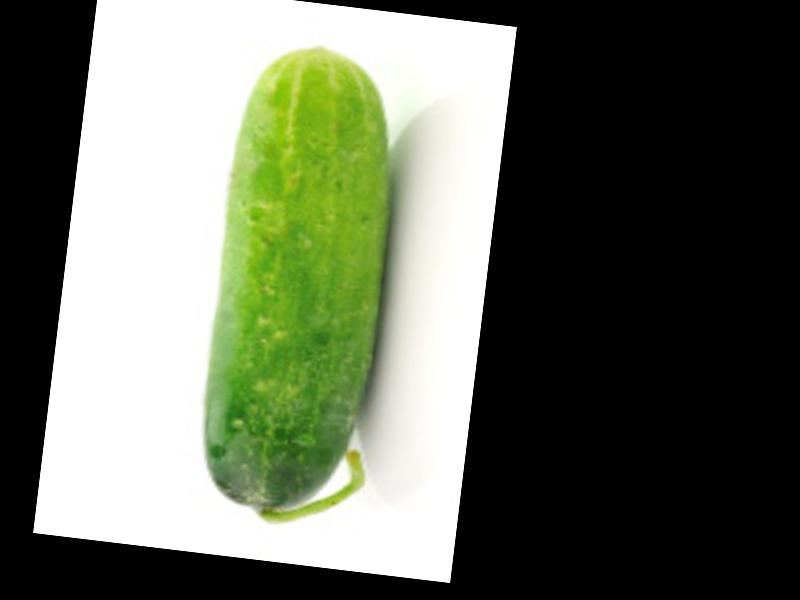Cucumber: (190, 34, 415, 529)
